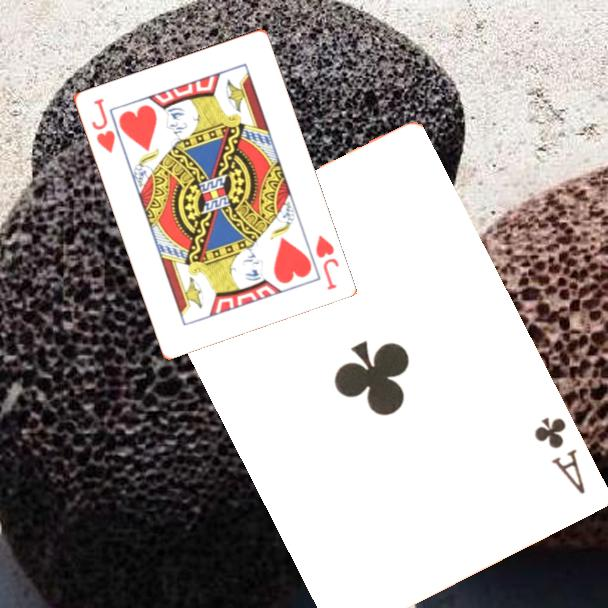c01: (531, 414, 589, 498)
h11: (87, 94, 118, 156), (312, 231, 341, 293)
